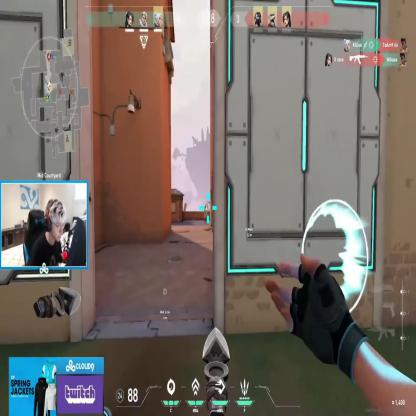enemy: (204, 204, 208, 224)
enemy_head: (205, 204, 206, 209)
